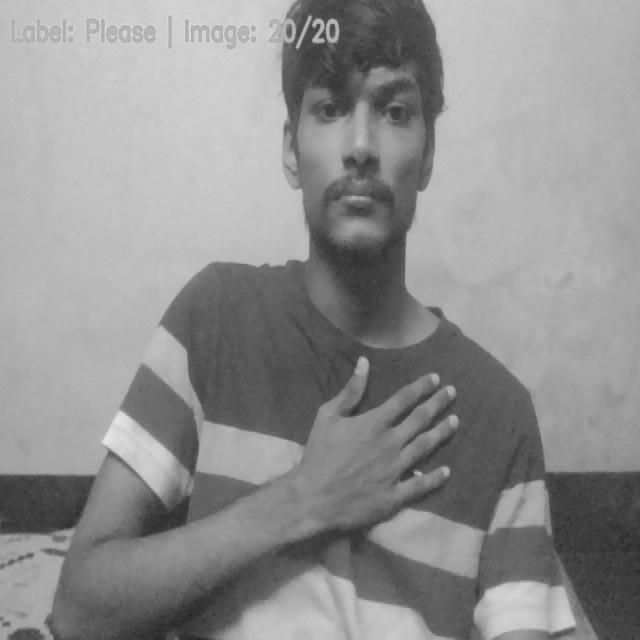Please: (282, 355, 458, 544)
